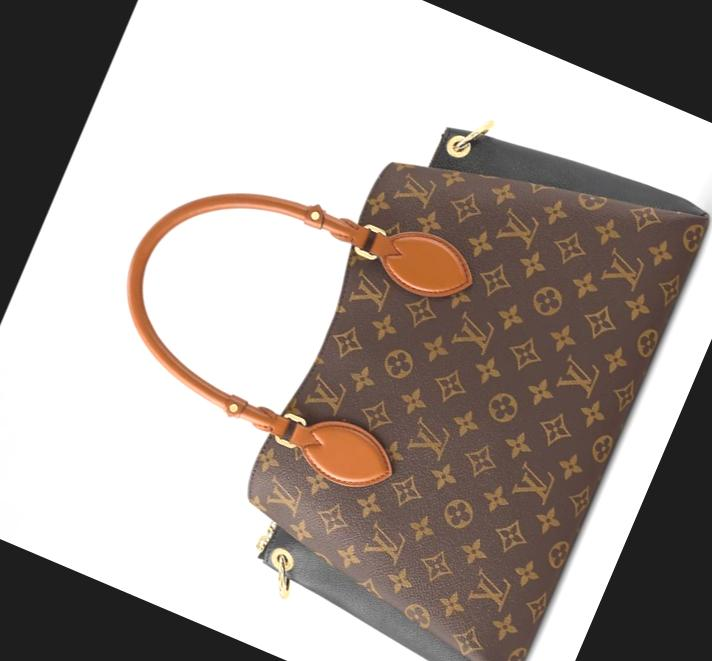LOUIS-VUITTON: (213, 83, 712, 661)
